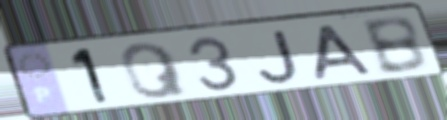1: (66, 45, 114, 108)
3: (186, 34, 241, 94)
A: (312, 22, 378, 83)
B: (357, 14, 431, 78)
J: (255, 28, 303, 86)
Q: (117, 41, 193, 102)
